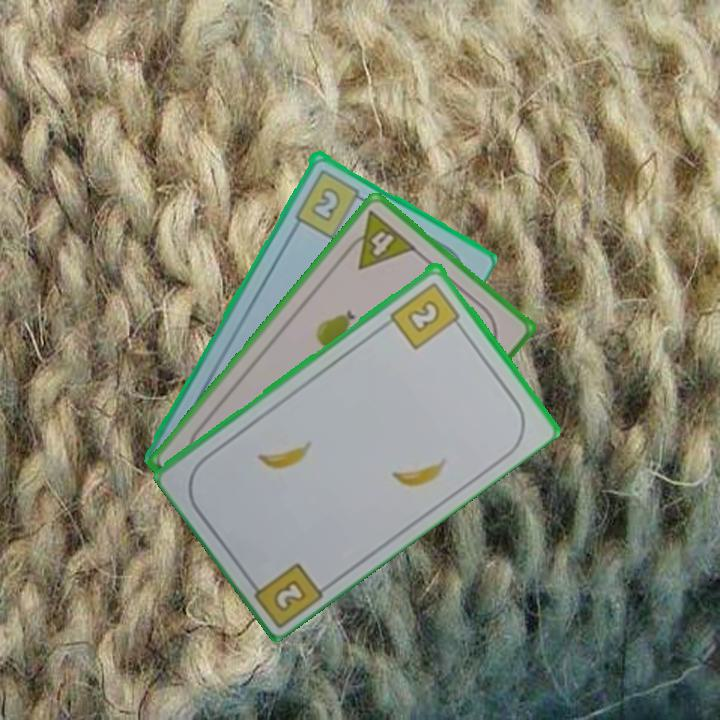2b: (291, 165, 369, 241), (386, 278, 466, 352), (269, 575, 310, 614)
4p: (339, 206, 419, 273)
